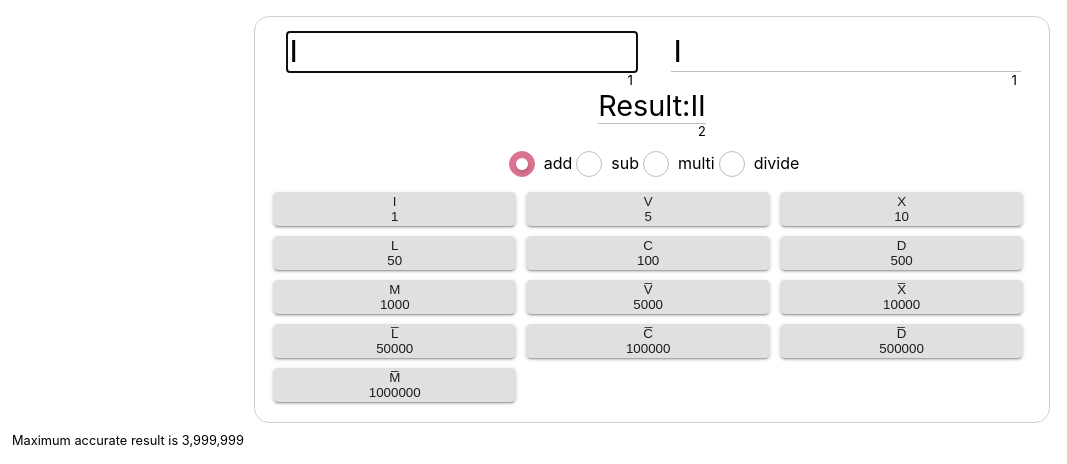
Change inputs values
Replace the text in the field with id "first-input" with "II" at x=462, y=52, box [287,32,637,72]
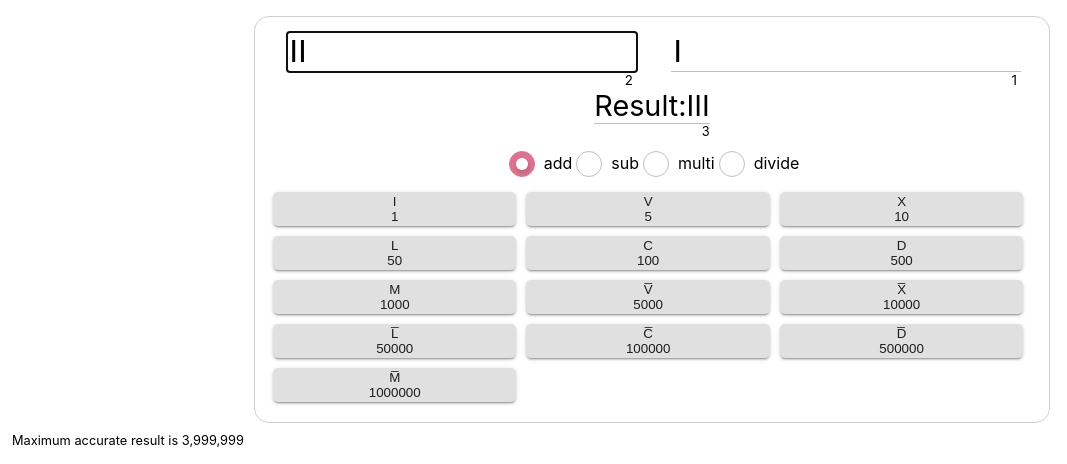
Result: the text with id "first-decimal" reads "2" at [625,72,633,88]
Result: the text with id "result-roman" reads "III" at [686,88,710,123]
Result: the text with id "result-decimal" reads "3" at [702,124,710,139]
